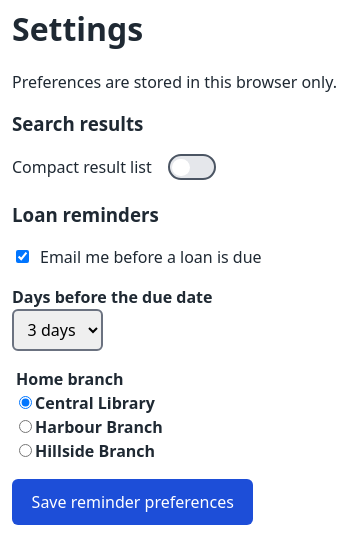
Test case: SettingsPage › disables the reminder interval when email reminders are off
The image size is (353, 542).
Step 1. Click the checkbox labelled "Email me before a loan is due" → (22, 257), box [16, 250, 29, 263]
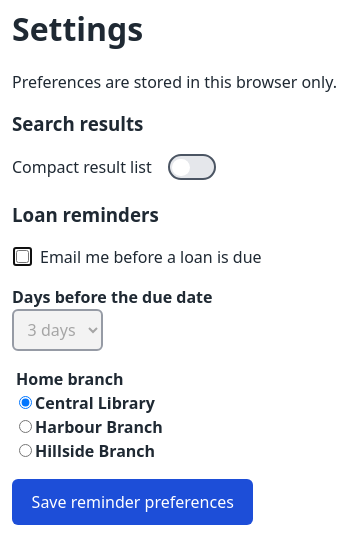
expect the dropdown labelled "Days before the due date" is disabled: met, box [12, 309, 103, 351]
